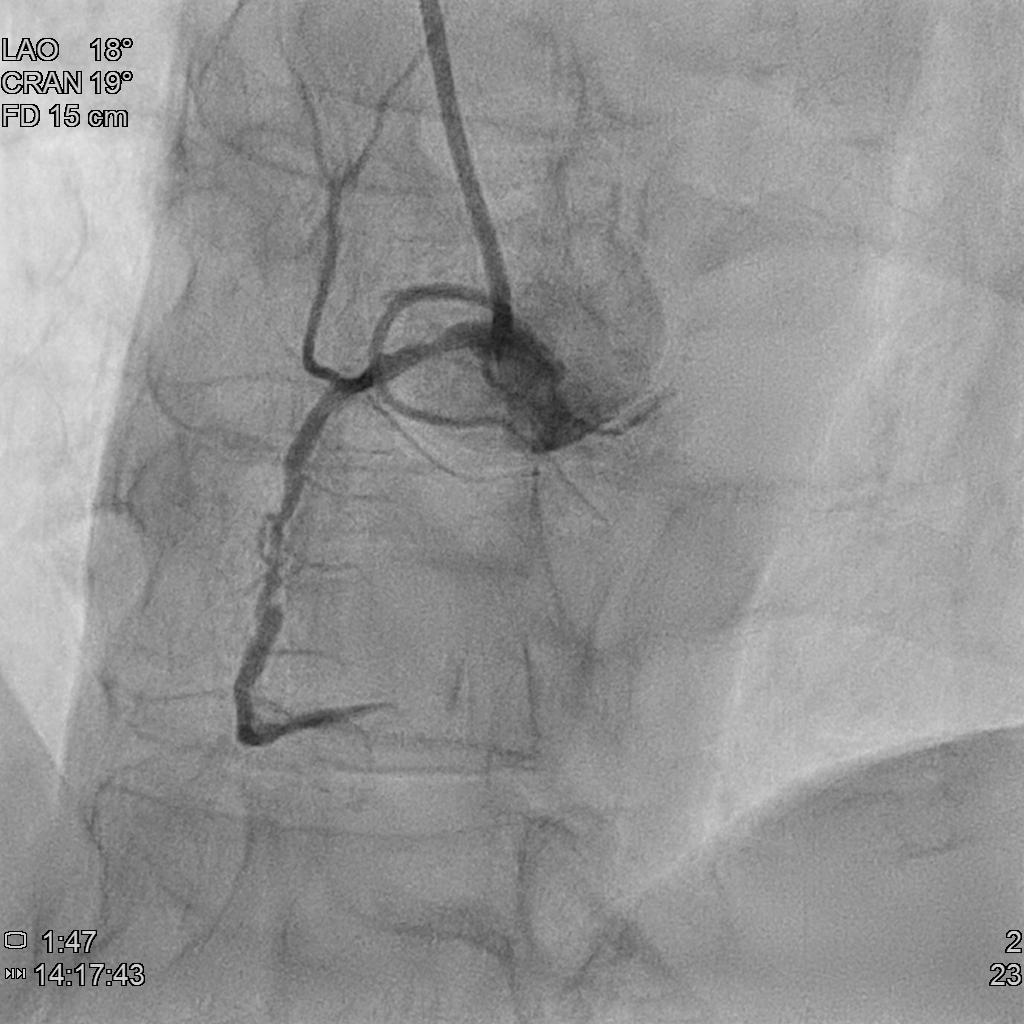block: (225, 485, 328, 641)
